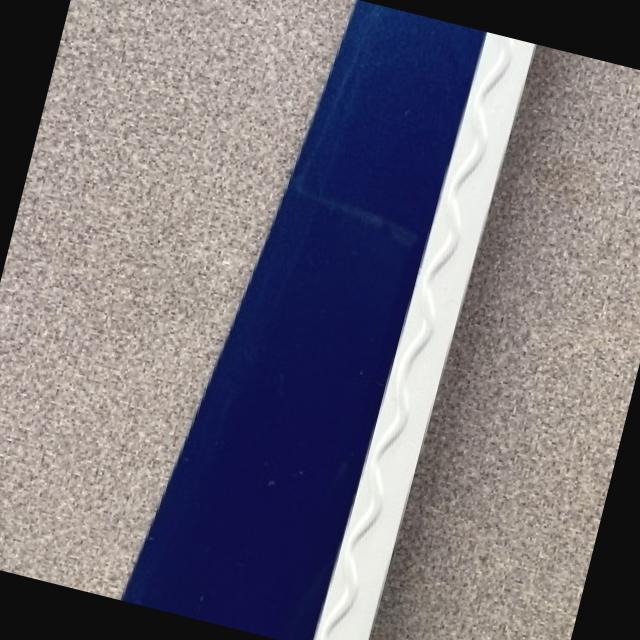healthy: (127, 0, 534, 640)
